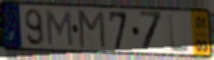7: (138, 10, 164, 54), (108, 9, 129, 51)
9: (23, 8, 46, 48)
L: (167, 12, 190, 53)
M: (78, 9, 108, 51), (45, 9, 74, 49)
